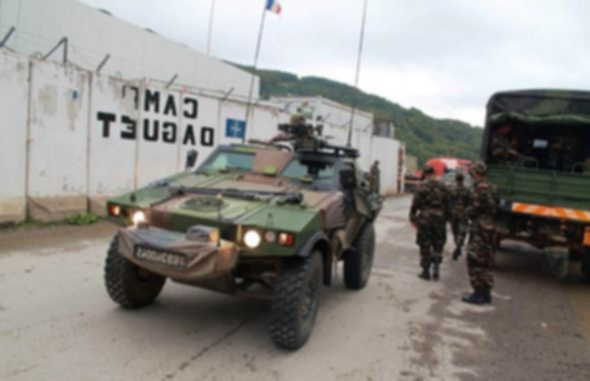license_plate: (133, 246, 187, 268)
